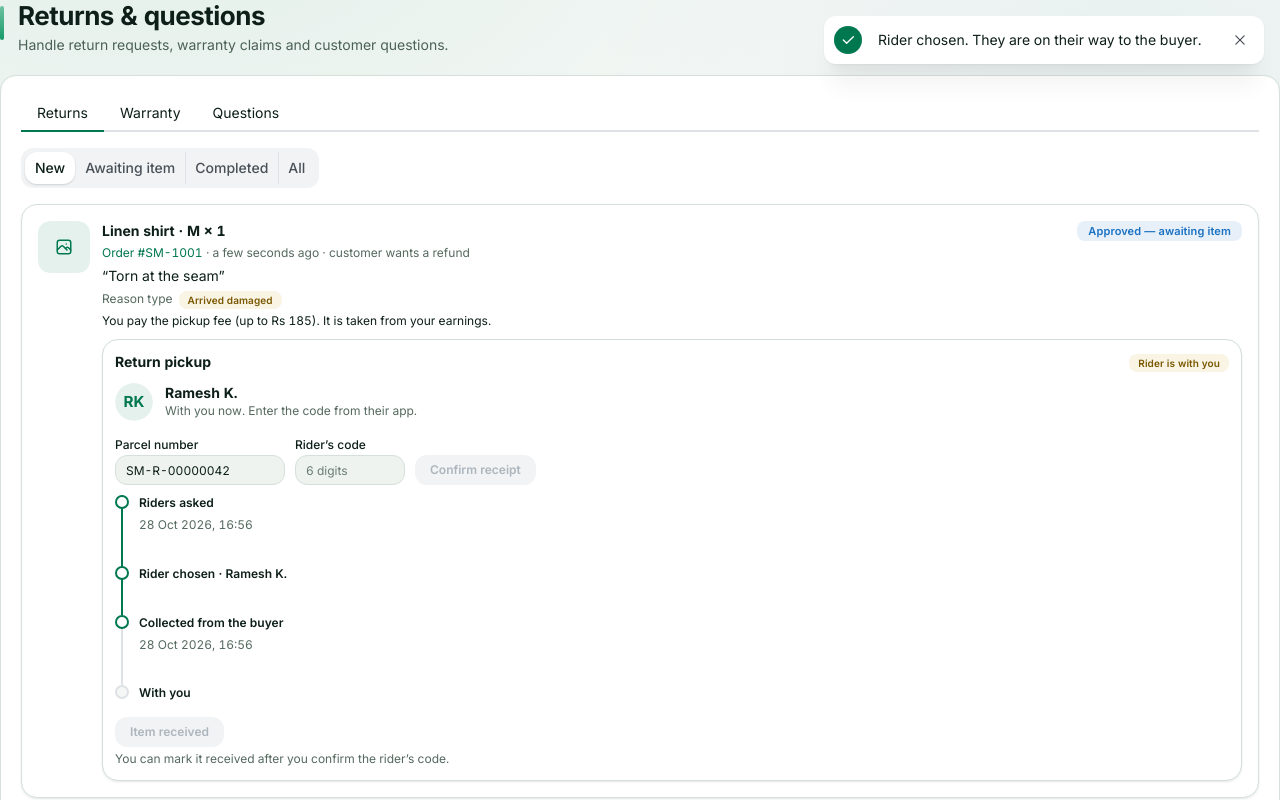
Scenario: return pickup by rider (Seller Center) › keeps Item received disabled until the seller confirms the rider’s code
Expected: the text "You can mark it received after you confirm the rider’s code." is shown, [115,751,449,766]
Expected: the button "Item received" is disabled, [115,717,224,747]
Type "482913" into the field labelled "Rider’s code" at (350, 470), box [295,456,405,486]
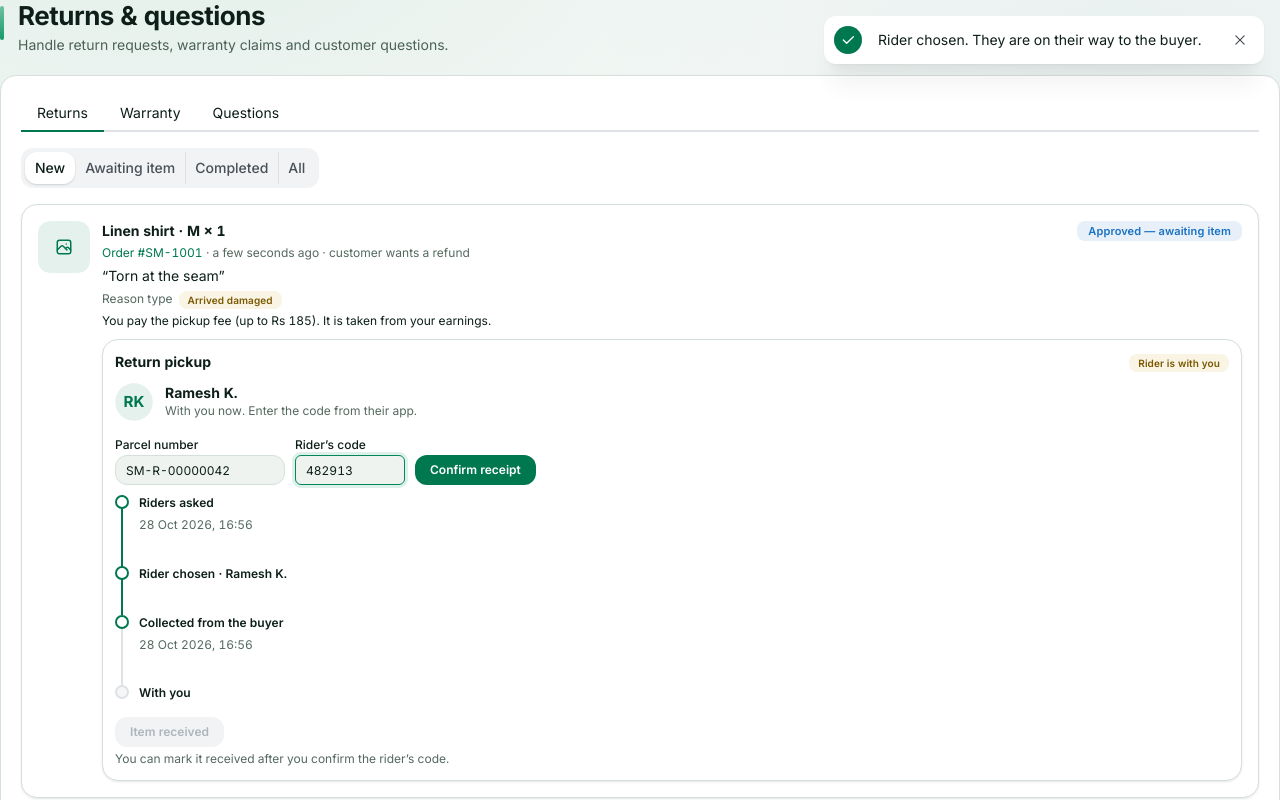
Click the button "Confirm receipt" at (475, 470), box [415,456,536,486]
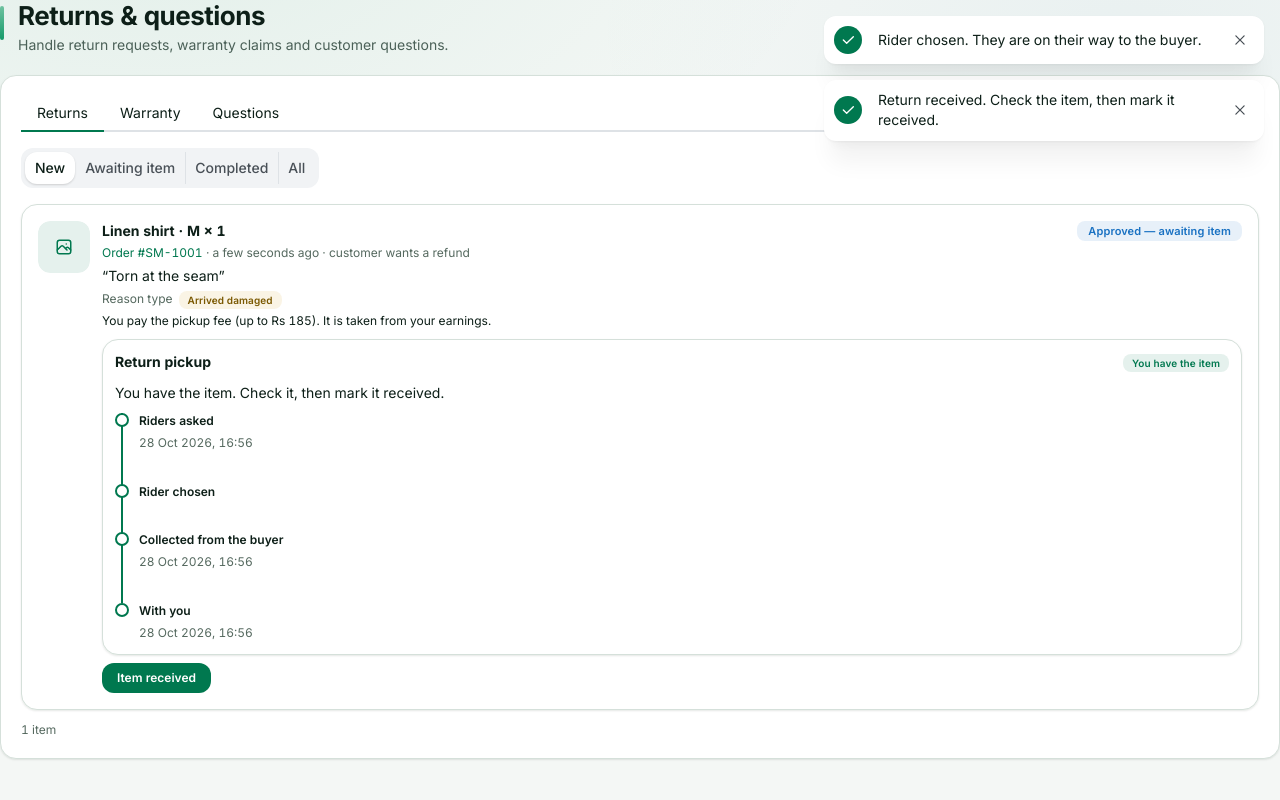
Expected: the button "Item received" is enabled, [102,662,211,692]
Expected: the text with test id "mark-received-hint" is gone
